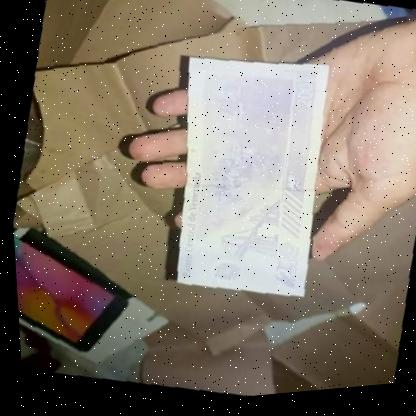two_hundred-back-vef: (133, 36, 356, 320)
